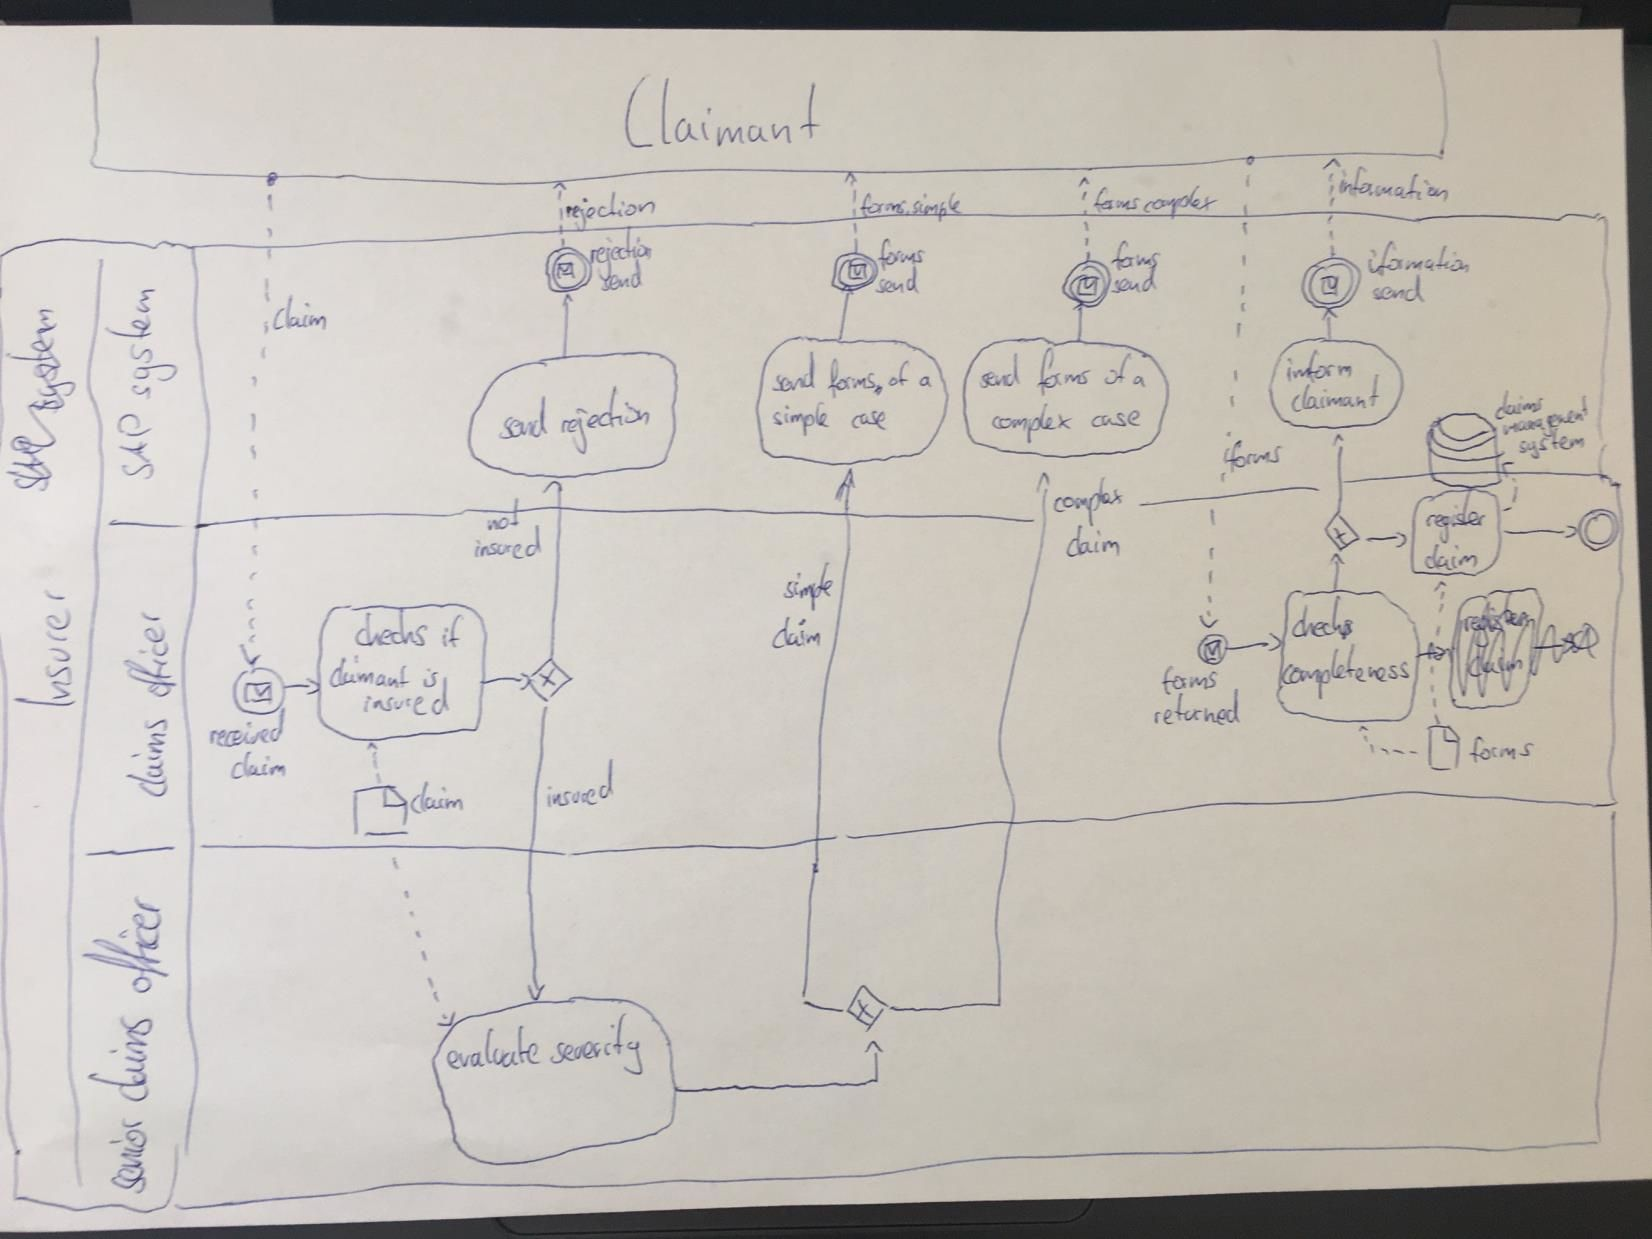Claimant: (622, 83, 827, 152)
Insurer: (10, 580, 78, 717)
SAP: (109, 407, 160, 487)
a: (1130, 371, 1150, 392), (917, 366, 929, 390)
case: (1085, 407, 1141, 435), (844, 407, 894, 433)
checks: (349, 609, 432, 655), (1289, 606, 1355, 642)
claim: (265, 288, 333, 341), (398, 780, 475, 819), (764, 614, 827, 655), (224, 750, 293, 786), (1420, 540, 1487, 574), (1059, 526, 1126, 558)
claimant: (1285, 376, 1388, 416), (323, 662, 414, 698)
claims: (90, 1009, 152, 1108), (122, 707, 170, 803), (1491, 385, 1551, 423)
completeness: (1283, 655, 1413, 691)
complex: (1139, 182, 1219, 223), (1046, 483, 1125, 515), (987, 407, 1069, 437)
evaluate: (441, 1031, 542, 1071)
forms: (1035, 342, 1099, 400), (1224, 432, 1286, 482), (1463, 731, 1536, 764), (1158, 662, 1219, 698), (827, 357, 875, 398), (1089, 182, 1141, 217), (1104, 243, 1169, 271), (855, 191, 908, 223), (874, 243, 931, 267)
if: (437, 612, 470, 651)
inform: (1276, 351, 1361, 385)
information: (1331, 167, 1459, 203), (1361, 243, 1479, 280)
insured: (540, 759, 627, 817), (355, 688, 460, 718), (468, 532, 552, 564)
is: (421, 664, 446, 691)
management: (1499, 419, 1593, 441)
not: (477, 501, 524, 531)
of: (1103, 351, 1129, 389), (882, 361, 911, 392)
officer: (85, 882, 167, 1000), (124, 601, 178, 700)
received: (204, 709, 287, 754)
register: (1420, 498, 1492, 532)
rejection: (557, 387, 650, 445), (559, 190, 659, 223), (583, 232, 661, 262)
returned: (1139, 686, 1244, 735)
send: (496, 396, 550, 445), (764, 357, 817, 400), (973, 354, 1022, 396), (1367, 275, 1427, 305), (594, 267, 649, 294), (1110, 267, 1155, 299), (872, 272, 924, 295)
senior: (99, 1110, 147, 1201)
severity: (550, 1023, 652, 1069)
simple: (767, 401, 833, 431), (778, 577, 836, 606), (911, 193, 972, 219)
system: (111, 275, 172, 403), (1515, 431, 1591, 456)
